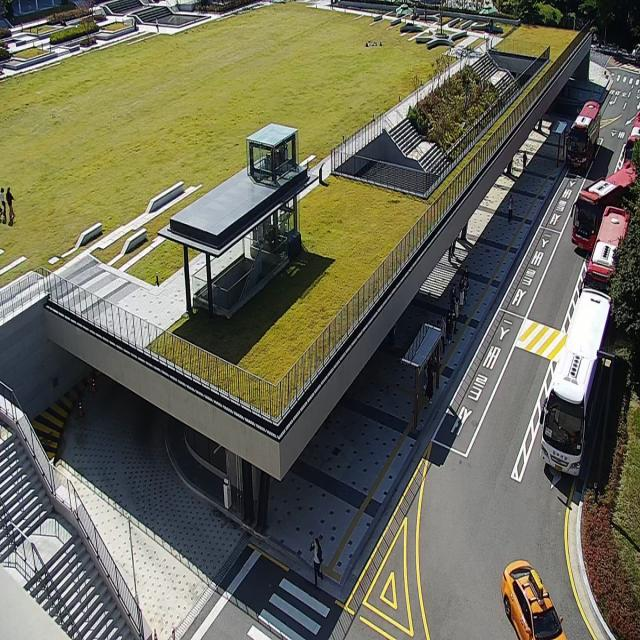queue: (417, 265, 469, 428)
